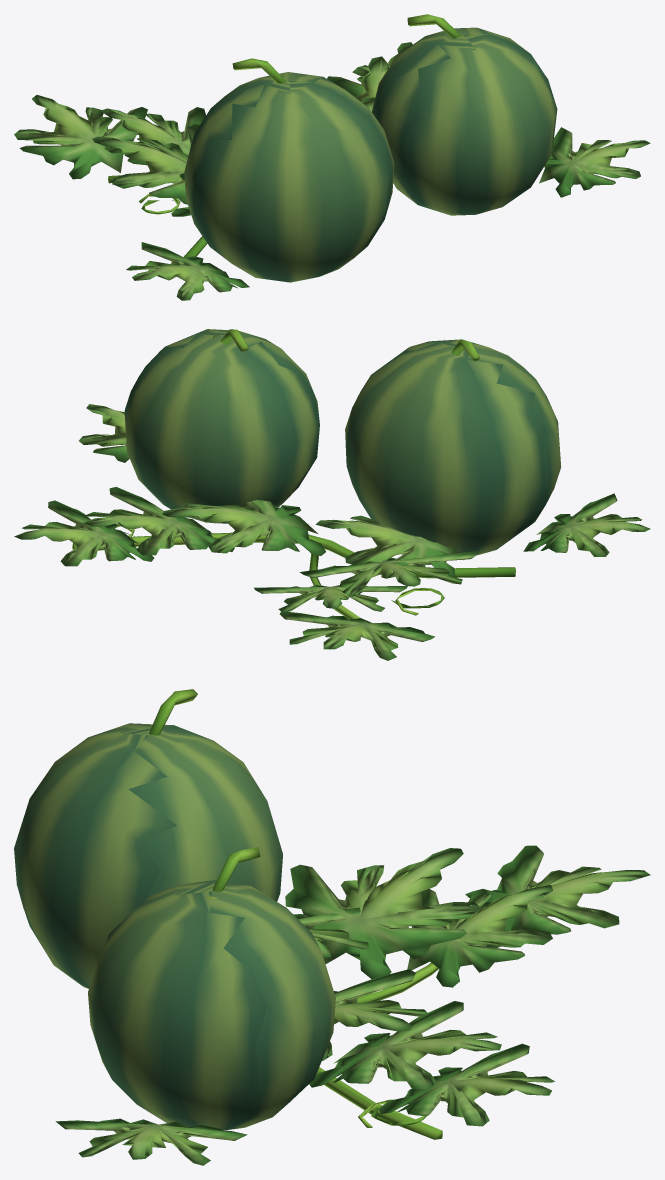
Rendered from NP_Watermelon_Ready_LOD1.fbx.
3 views of the same model, one above another, from view 1: azimuth 30°, elevation 25°; view 2: azimuth 150°, elevation 25°; view 3: azimuth 270°, elevation 25° (orthographic). The views are drawn at different scales.
Visible parts, largest first — view 1: NP_Watermelon_Ready; view 2: NP_Watermelon_Ready; view 3: NP_Watermelon_Ready.
Boxes of the visible parts, x1=… form: NP_Watermelon_Ready: x1=14, y1=14, x2=650, y2=300; NP_Watermelon_Ready: x1=14, y1=329, x2=650, y2=660; NP_Watermelon_Ready: x1=14, y1=689, x2=650, y2=1165.
Size of the model in its own units: 109 by 41.93 by 85.54.
